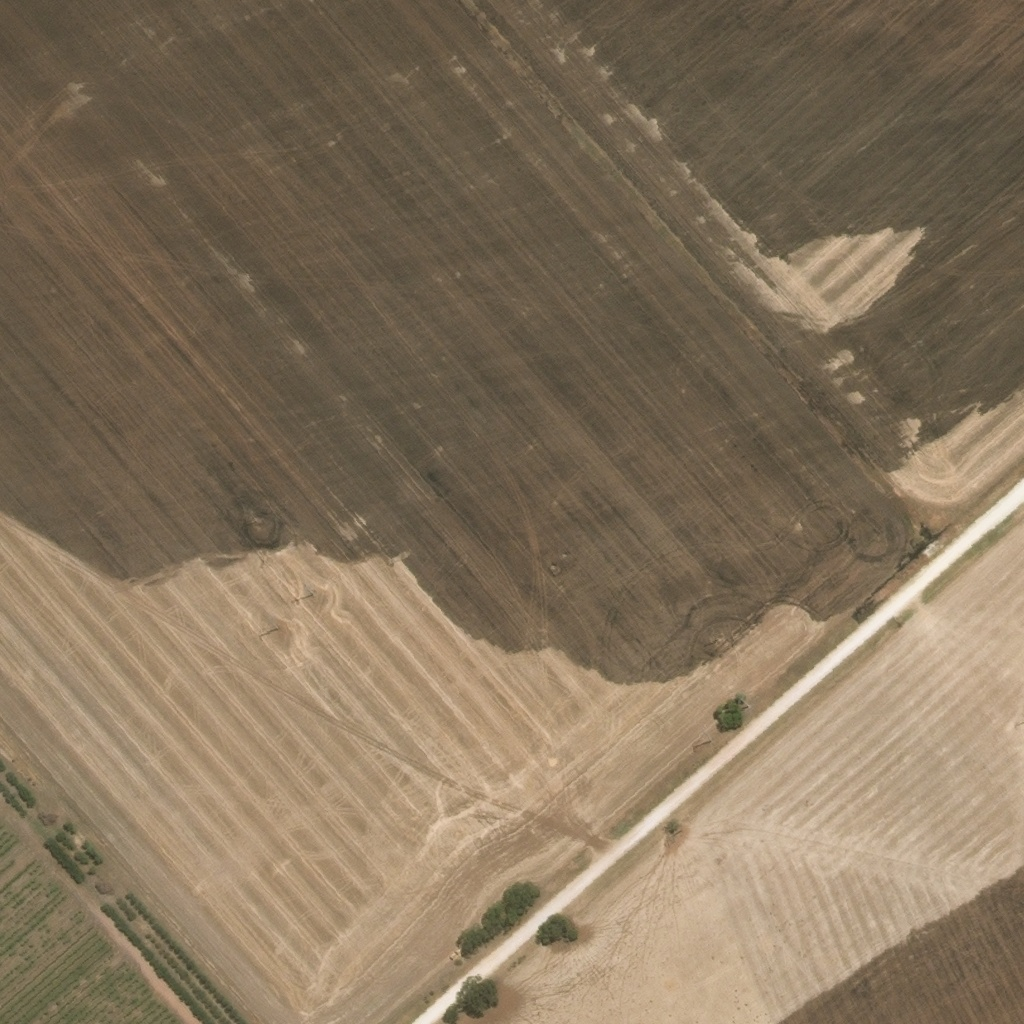4 un-classified: (992, 625, 1004, 639)
